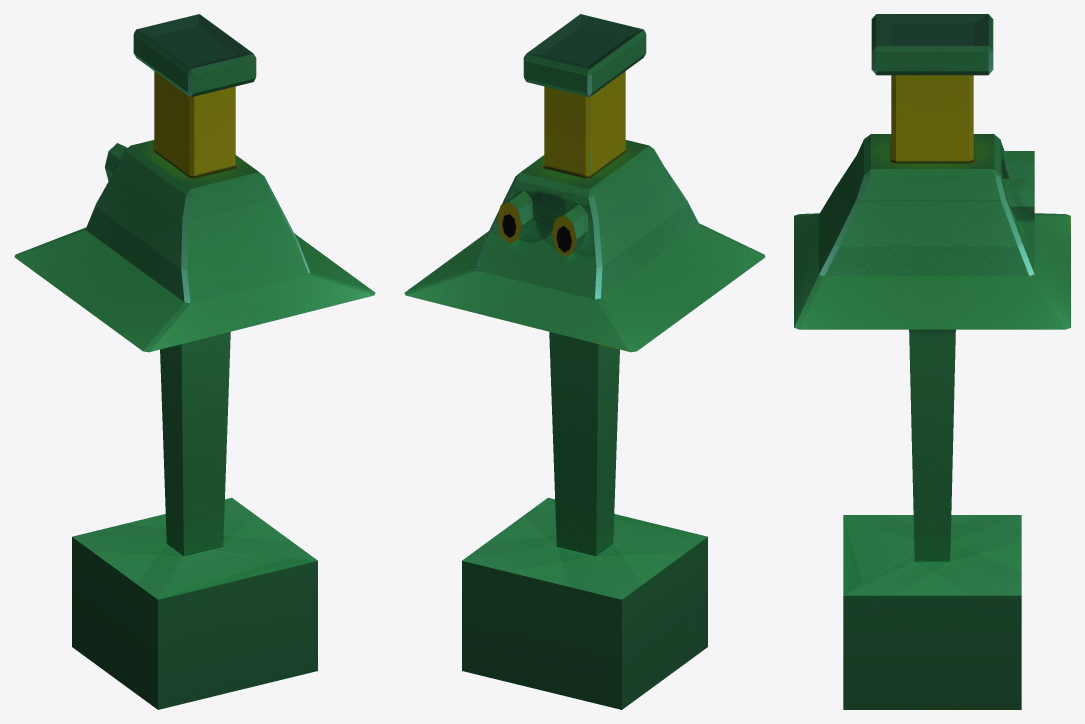
File: playerzapper4.dae
3 renders of one model, left to right at view 1: azimuth 30°, elevation 25°; view 2: azimuth 150°, elevation 25°; view 3: azimuth 270°, elevation 25°, orthographic. The views are drawn at different scales.
Parts seen in each view (by area): view 1: player; view 2: player; view 3: player.
Boxes of the visible parts, left/top/right/bottom form: player: left=14, top=14, right=375, bottom=709; player: left=404, top=14, right=765, bottom=709; player: left=794, top=14, right=1070, bottom=709.
Size of the model in its own units: 2.01 by 2 by 5.09.
Materials: 1 (1 with a texture image).
